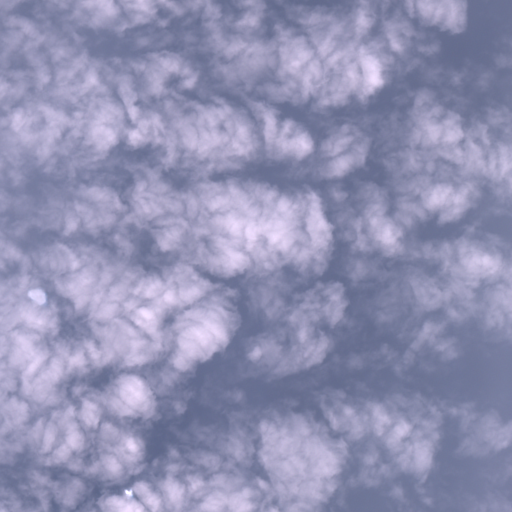Iceberg: (28, 289, 45, 303), (125, 490, 131, 495)
